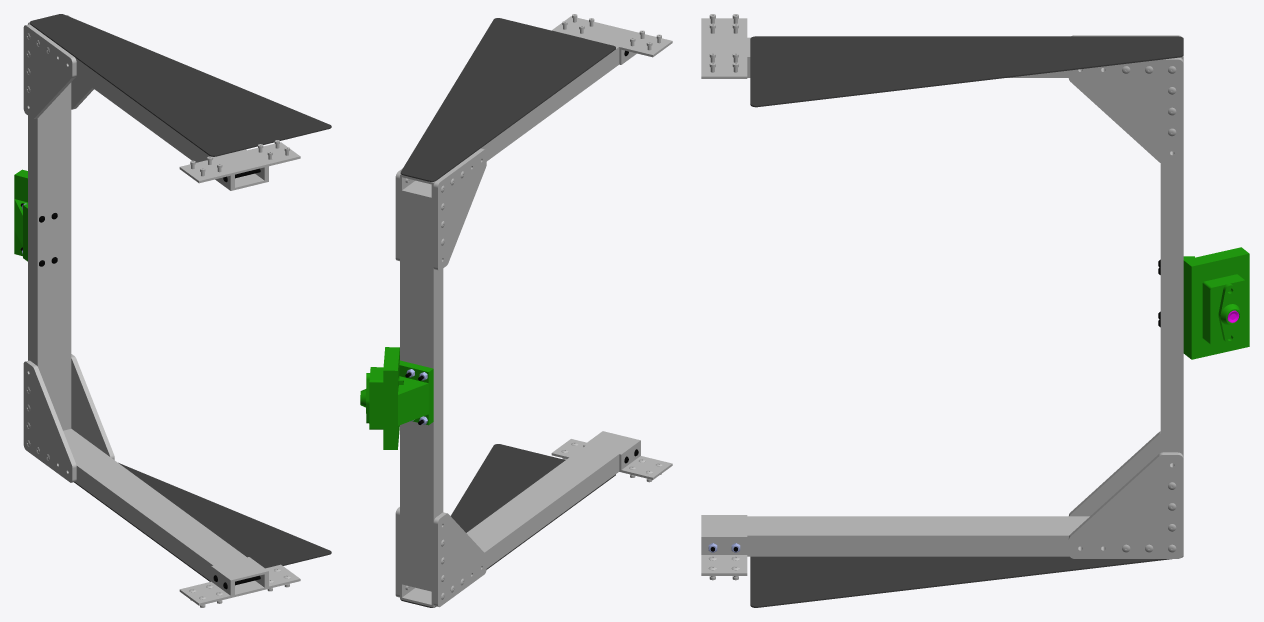
3 views of the same model, side by side, from view 1: azimuth 30°, elevation 25°; view 2: azimuth 150°, elevation 25°; view 3: azimuth 270°, elevation 25° (orthographic). The views are drawn at different scales.
Visible parts, largest first — view 1: NAUO45, NAUO2, NAUO3, NAUO44, NAUO1, NAUO15, NAUO13, NAUO14, NAUO72, NAUO46, NAUO48, NAUO49 (+2 smaller); view 2: NAUO45, NAUO2, NAUO3, NAUO44, NAUO1, NAUO72, NAUO13, NAUO15, NAUO46, NAUO71, NAUO48, NAUO49 (+2 smaller); view 3: NAUO45, NAUO3, NAUO44, NAUO14, NAUO12, NAUO2, NAUO72, NAUO71, NAUO15, NAUO47, NAUO1, NAUO49 (+2 smaller).
Boxes of the visible parts, x1,y1,x2,y2 form: NAUO45: [29, 14, 331, 156]; NAUO2: [28, 82, 71, 430]; NAUO3: [63, 428, 266, 597]; NAUO44: [74, 462, 331, 581]; NAUO1: [28, 22, 266, 190]; NAUO15: [23, 360, 76, 482]; NAUO13: [23, 24, 76, 118]; NAUO14: [71, 354, 114, 459]; NAUO72: [14, 169, 27, 261]; NAUO46: [179, 565, 232, 605]; NAUO48: [179, 158, 232, 190]; NAUO49: [247, 142, 300, 182]; NAUO45: [400, 18, 615, 181]; NAUO2: [400, 192, 443, 589]; NAUO3: [400, 431, 638, 607]; NAUO44: [401, 444, 615, 607]; NAUO1: [400, 24, 638, 200]; NAUO72: [383, 347, 433, 449]; NAUO13: [433, 148, 486, 270]; NAUO15: [433, 512, 486, 607]; NAUO46: [619, 440, 672, 479]; NAUO71: [369, 367, 383, 429]; NAUO48: [619, 32, 672, 64]; NAUO49: [552, 16, 604, 38]; NAUO45: [750, 36, 1183, 107]; NAUO3: [701, 516, 1183, 556]; NAUO44: [750, 556, 1182, 607]; NAUO14: [1068, 452, 1183, 558]; NAUO12: [1068, 57, 1183, 163]; NAUO2: [1160, 151, 1183, 464]; NAUO72: [1183, 247, 1249, 359]; NAUO71: [1202, 274, 1246, 345]; NAUO15: [1069, 431, 1160, 516]; NAUO47: [701, 535, 747, 575]; NAUO1: [701, 37, 1183, 77]; NAUO49: [701, 57, 747, 78].
Size of the model in its own units: 0.2329 by 0.6286 by 0.6064.
